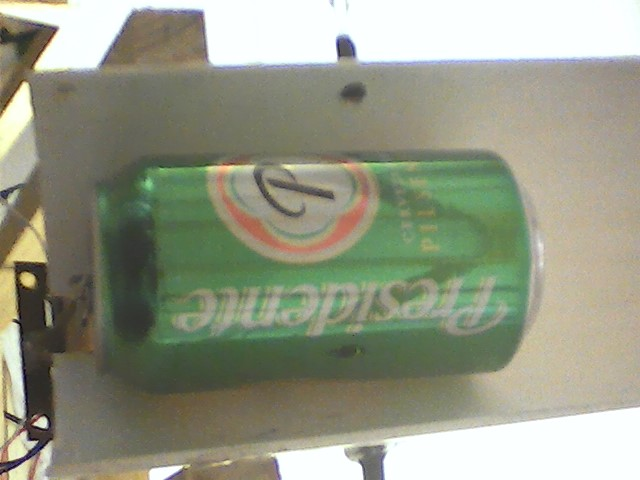lata: (88, 147, 553, 399)
